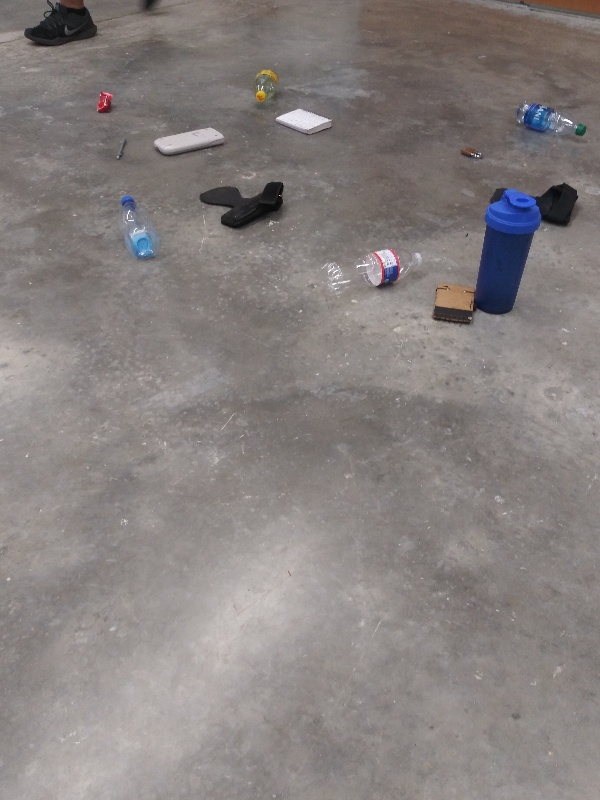bottle: (320, 242, 427, 294), (511, 98, 591, 141), (116, 192, 161, 263), (249, 62, 282, 106)
